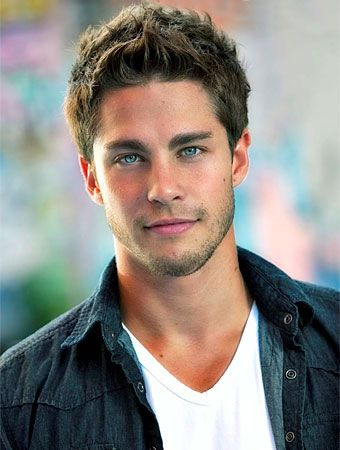person: (1, 1, 340, 450)
